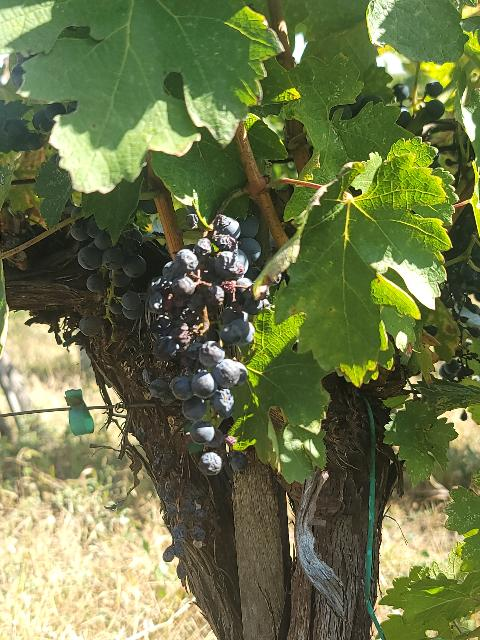grapes: (146, 214, 266, 475)
